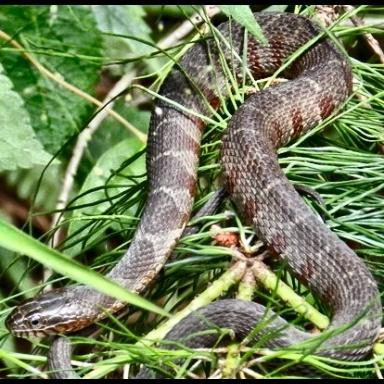snake: (0, 7, 384, 375)
